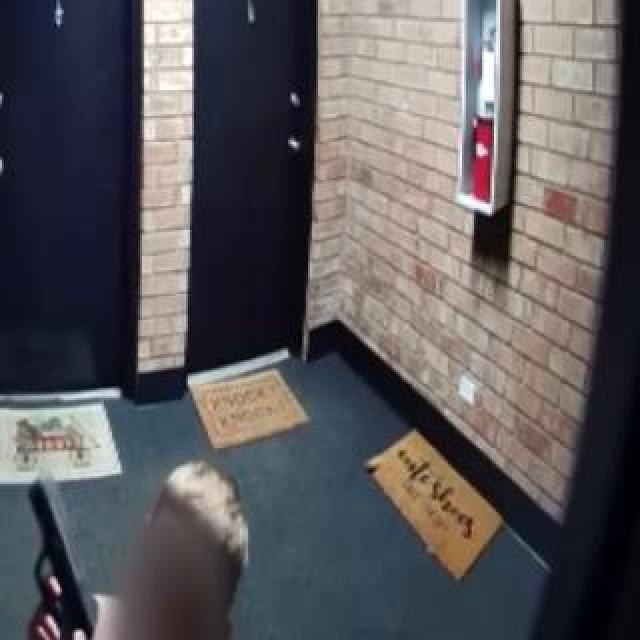Guns: (5, 449, 113, 640)
